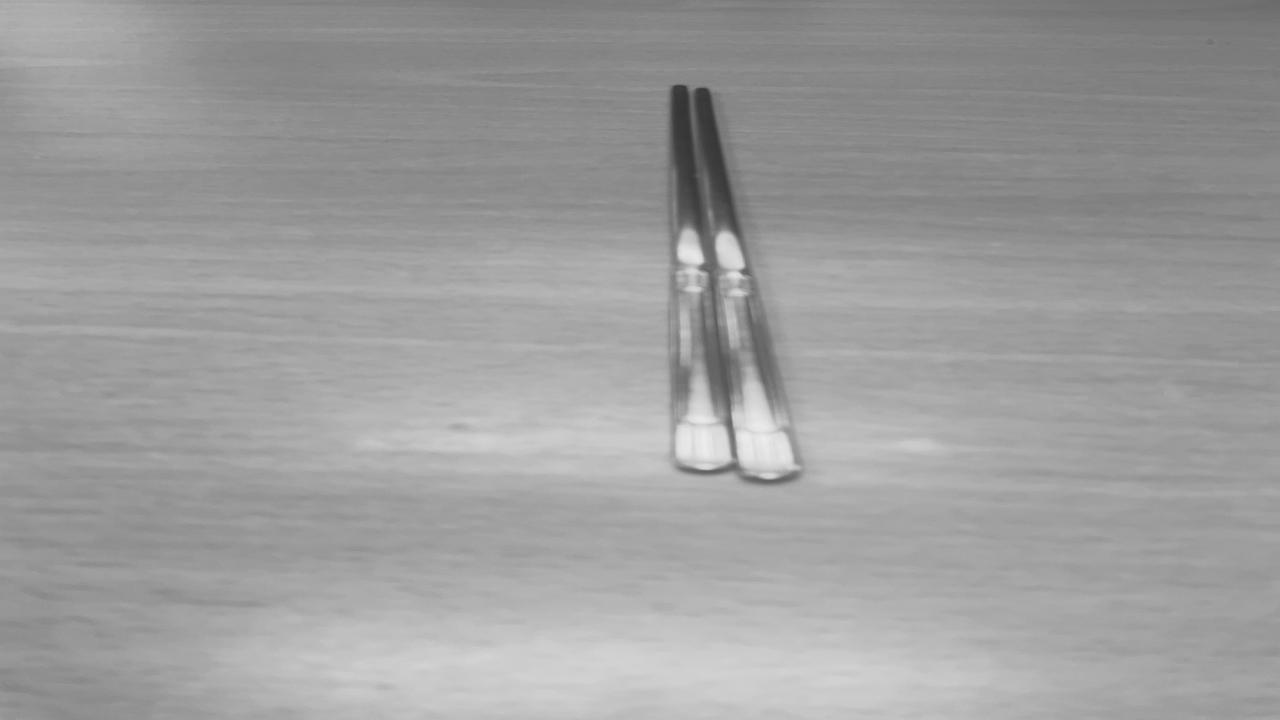chopstick: (669, 86, 800, 480)
